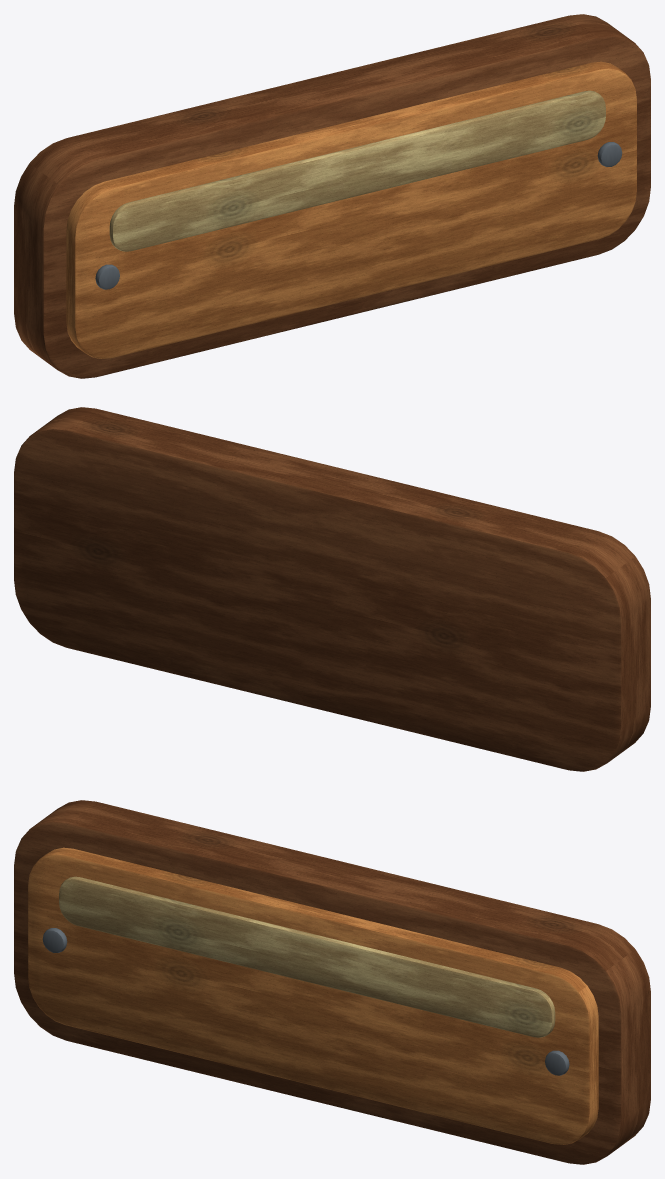
Rendered from boton_madera.gltf.
3 renders of one model, top to bottom at view 1: azimuth 30°, elevation 25°; view 2: azimuth 150°, elevation 25°; view 3: azimuth 330°, elevation 25°, orthographic.
Visible parts, largest first — view 1: boton_madera; view 2: boton_madera; view 3: boton_madera.
Boxes of the visible parts, x1=… form: boton_madera: x1=14, y1=14, x2=650, y2=378; boton_madera: x1=14, y1=407, x2=650, y2=771; boton_madera: x1=14, y1=800, x2=650, y2=1164.
Bounding box in the file's own units: 1.6 × 0.55 × 0.2.
4 materials, 4 textured.
